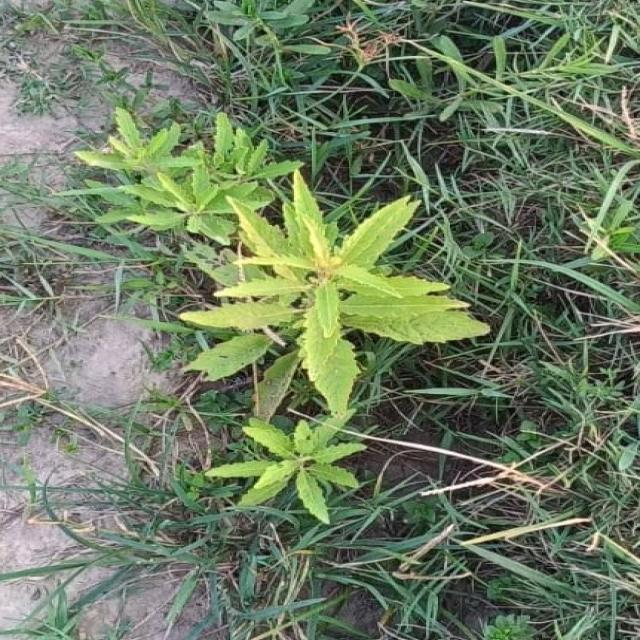weed: (77, 110, 490, 523)
